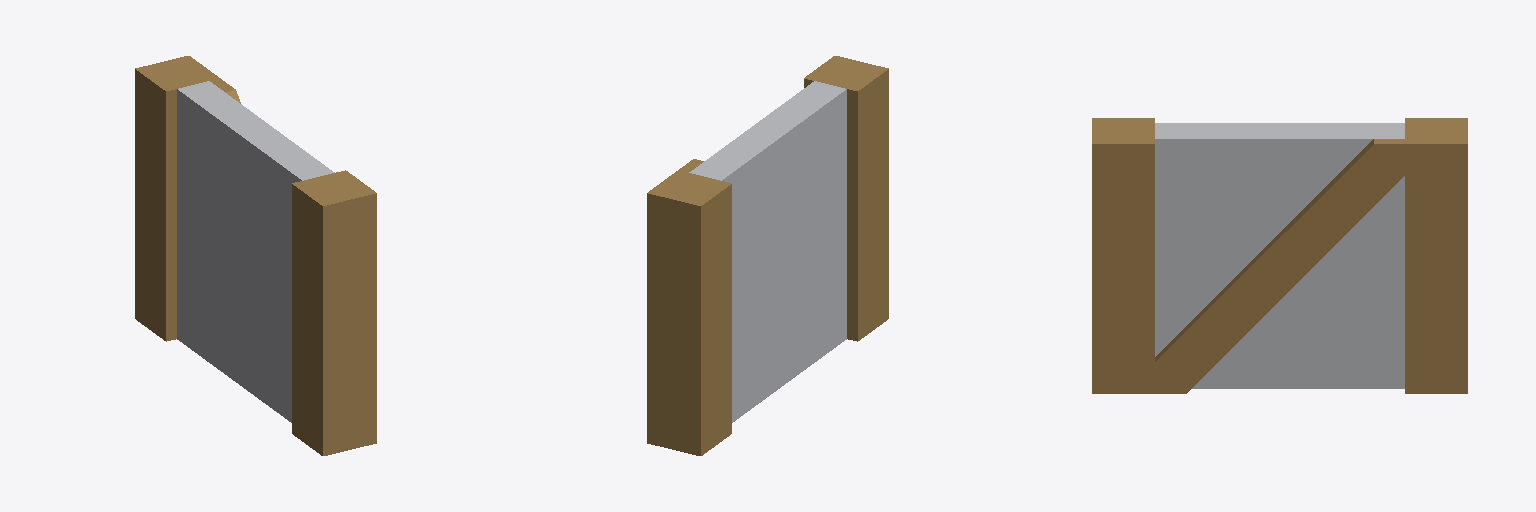
Rendered from Wood_Wall_Cross_01.obj.
The picture shows the model from 3 angles: view 1: azimuth 30°, elevation 25°; view 2: azimuth 150°, elevation 25°; view 3: azimuth 270°, elevation 25°; orthographic projection.
Parts seen in each view (by area): view 1: Mesh1 Wood_Wall_Cross Model; view 2: Mesh1 Wood_Wall_Cross Model; view 3: Mesh1 Wood_Wall_Cross Model.
Boxes of the visible parts, x1,y1,x2,y2 form: Mesh1 Wood_Wall_Cross Model: [135, 56, 376, 455]; Mesh1 Wood_Wall_Cross Model: [647, 56, 888, 455]; Mesh1 Wood_Wall_Cross Model: [1092, 118, 1467, 393].
Bounding box in the file's own units: 0.5 × 2.2 × 3.